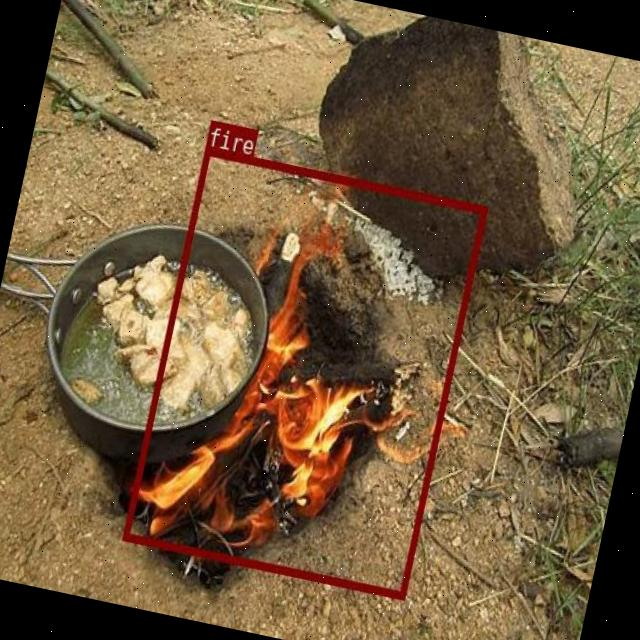fire: (122, 144, 487, 598)
